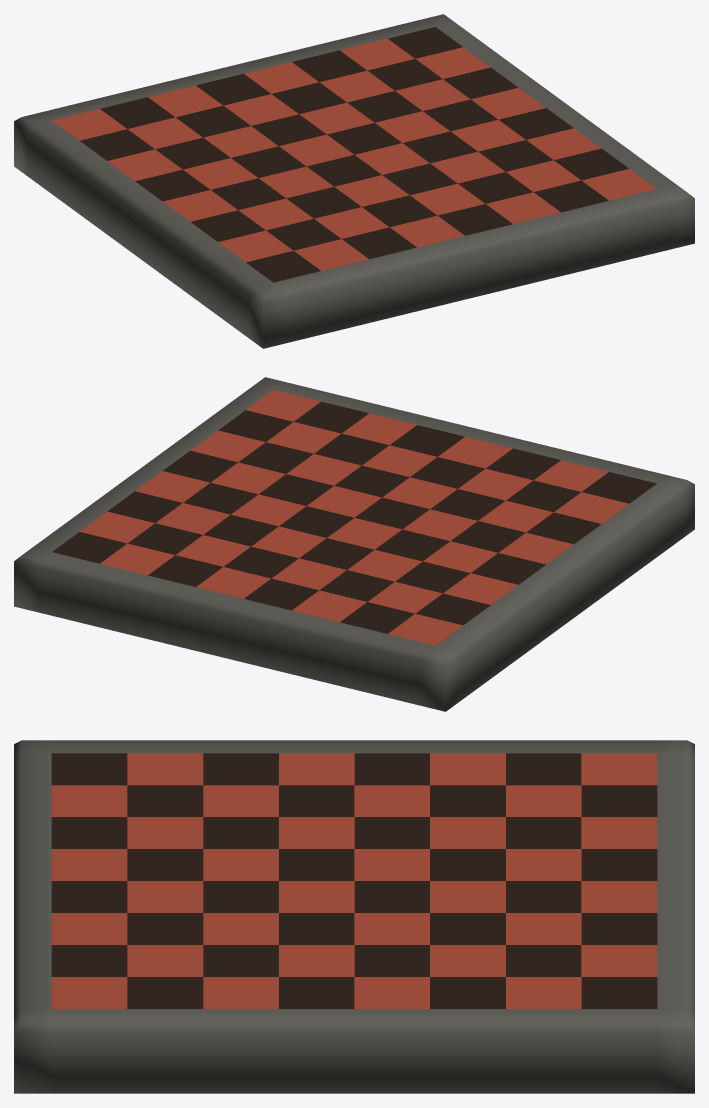
Rendered from itch_treehouse_modular_th_chessboard.glb.
The picture shows the model from 3 angles, top to bottom: view 1: azimuth 30°, elevation 25°; view 2: azimuth 150°, elevation 25°; view 3: azimuth 270°, elevation 25°; orthographic projection. The views are drawn at different scales.
Parts seen in each view (by area): view 1: TH_Chessboard; view 2: TH_Chessboard; view 3: TH_Chessboard.
Boxes of the visible parts, box(x1,y1,x2,y2) form: TH_Chessboard: box(14, 14, 694, 348); TH_Chessboard: box(14, 377, 694, 711); TH_Chessboard: box(14, 740, 694, 1093).
Bounding box in the file's own units: 0.96 × 0.1067 × 0.96.
